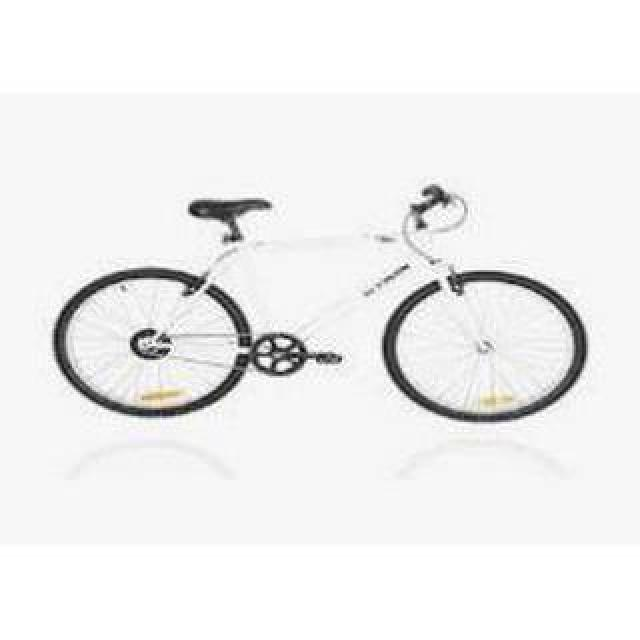Person: (52, 183, 590, 425)
